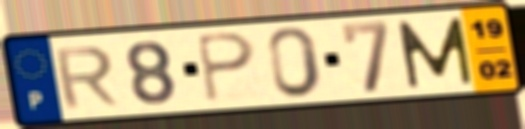0: (265, 25, 324, 100)
7: (337, 17, 394, 96)
8: (123, 39, 180, 106)
M: (394, 15, 477, 91)
P: (192, 31, 259, 105)
R: (50, 43, 123, 111)
